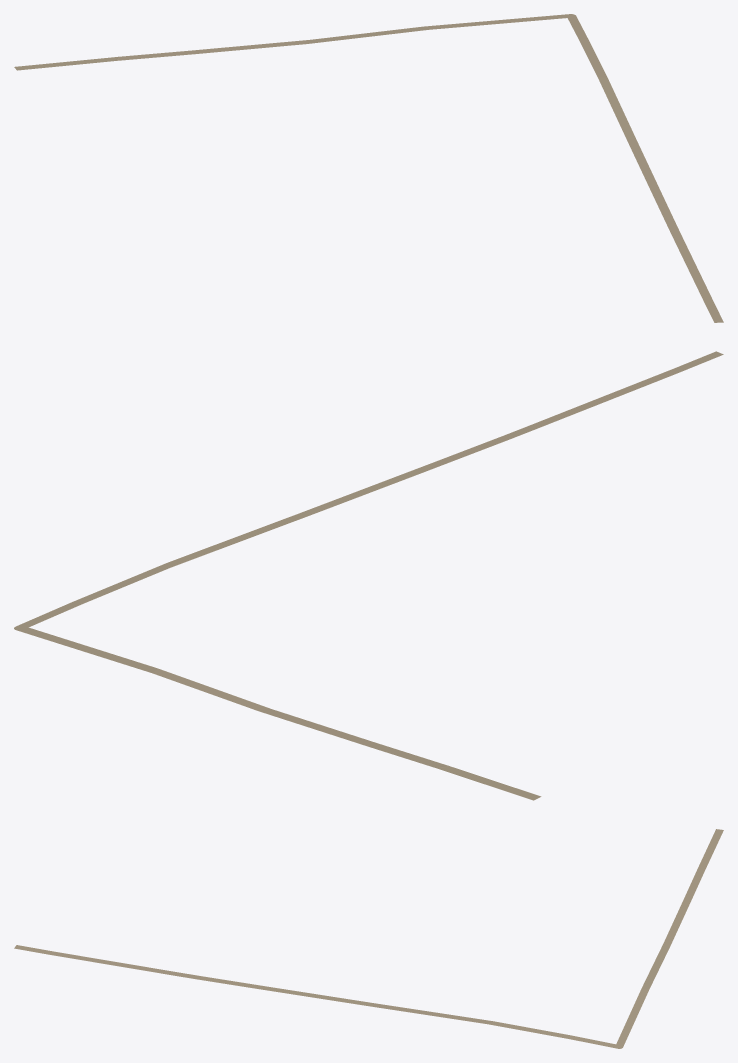
The model's file is farm_4_18_track.glb.
3 views of the same model, one above another, from view 1: azimuth 30°, elevation 25°; view 2: azimuth 150°, elevation 25°; view 3: azimuth 270°, elevation 25° (orthographic). The views are drawn at different scales.
Parts seen in each view (by area): view 1: geometry_0; view 2: geometry_0; view 3: geometry_0.
Part boxes in pixels (x1,y1,x2,y2): geometry_0: (14,14,723,322); geometry_0: (14,351,723,800); geometry_0: (14,829,723,1048).
Size of the model in its own units: 193 by 8.64 by 289.
